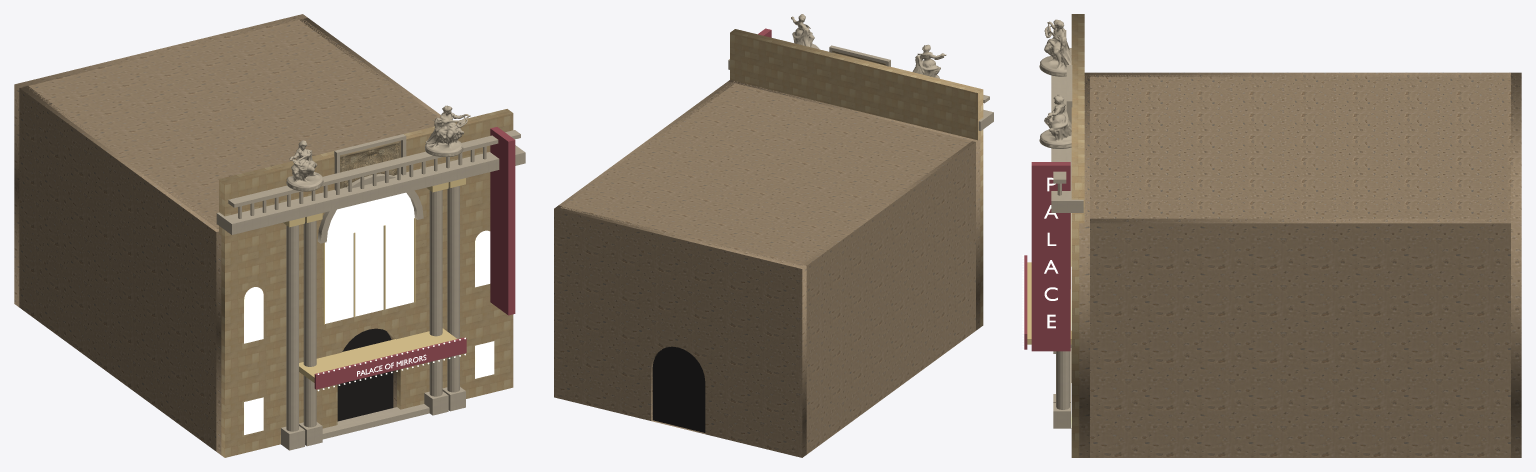
Rendered from palace-of-mirrors.glb.
3 views of the same model, side by side, from view 1: azimuth 30°, elevation 25°; view 2: azimuth 150°, elevation 25°; view 3: azimuth 270°, elevation 25° (orthographic). The views are drawn at different scales.
Visible parts, largest first — view 1: latheatre_side, latheatre_wall, latheatre_trim, latheatre_glass, latheatre_wood, latheatre_gold, latheatre_shadow, merged_latheatre_trim, merged_latheatre_relief_latheatre-cartouche; view 2: latheatre_side, latheatre_wall, latheatre_shadow, merged_latheatre_trim, latheatre_trim; view 3: latheatre_side, latheatre_wood, latheatre_wall, latheatre_trim, merged_latheatre_trim, latheatre_gold.
Boxes of the visible parts, x1,y1,x2,y2 form: latheatre_side: (14, 14, 440, 454); latheatre_wall: (219, 109, 513, 457); latheatre_trim: (216, 130, 525, 450); latheatre_glass: (244, 192, 494, 434); latheatre_wood: (314, 127, 515, 389); latheatre_gold: (283, 178, 465, 382); latheatre_shadow: (337, 328, 393, 421); merged_latheatre_trim: (286, 105, 470, 191); merged_latheatre_relief_latheatre-cartouche: (340, 141, 399, 188); latheatre_side: (554, 80, 980, 457); latheatre_wall: (730, 29, 983, 327); latheatre_shadow: (652, 346, 705, 432); merged_latheatre_trim: (791, 14, 946, 78); latheatre_trim: (728, 45, 993, 130); latheatre_side: (1079, 72, 1521, 457); latheatre_wood: (1024, 162, 1070, 351); latheatre_wall: (1071, 14, 1084, 457); latheatre_trim: (1051, 30, 1083, 428); merged_latheatre_trim: (1039, 19, 1071, 148); latheatre_gold: (1027, 213, 1071, 344).
Size of the model in its own units: 16.8 by 16.62 by 23.14.
11 materials, 5 textured.
